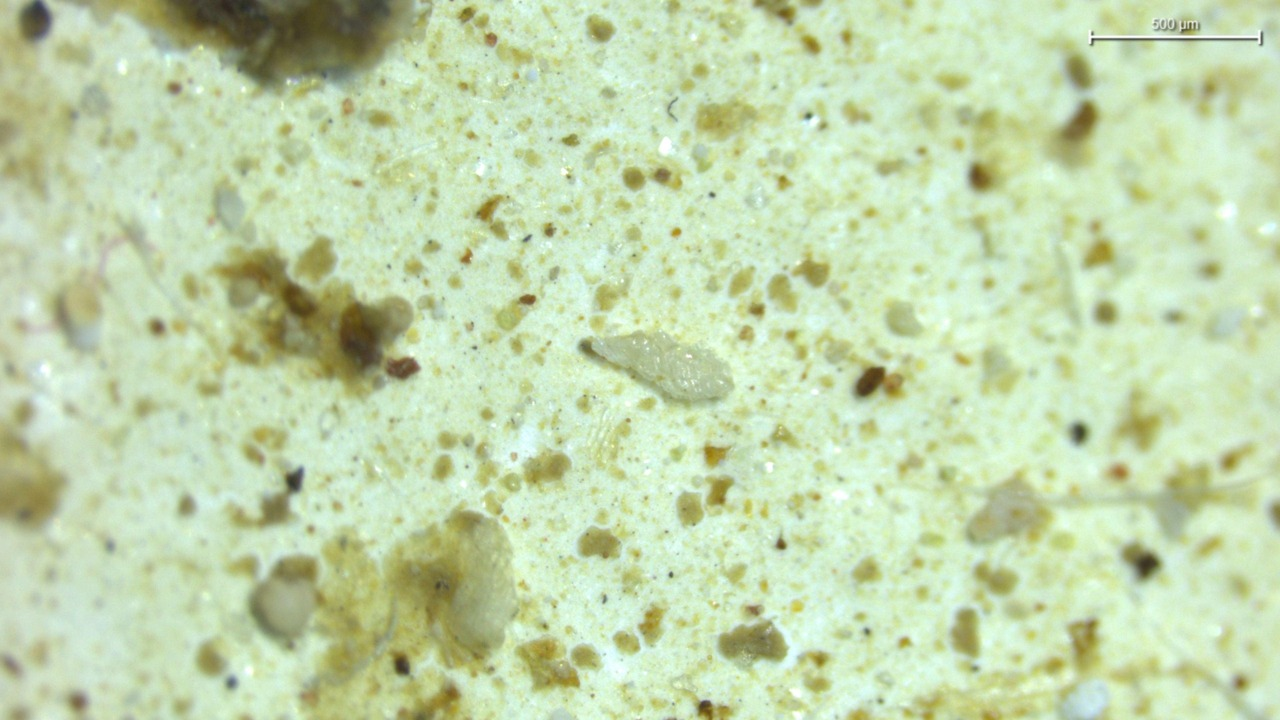microplastic_fragment: (588, 332, 732, 401)
